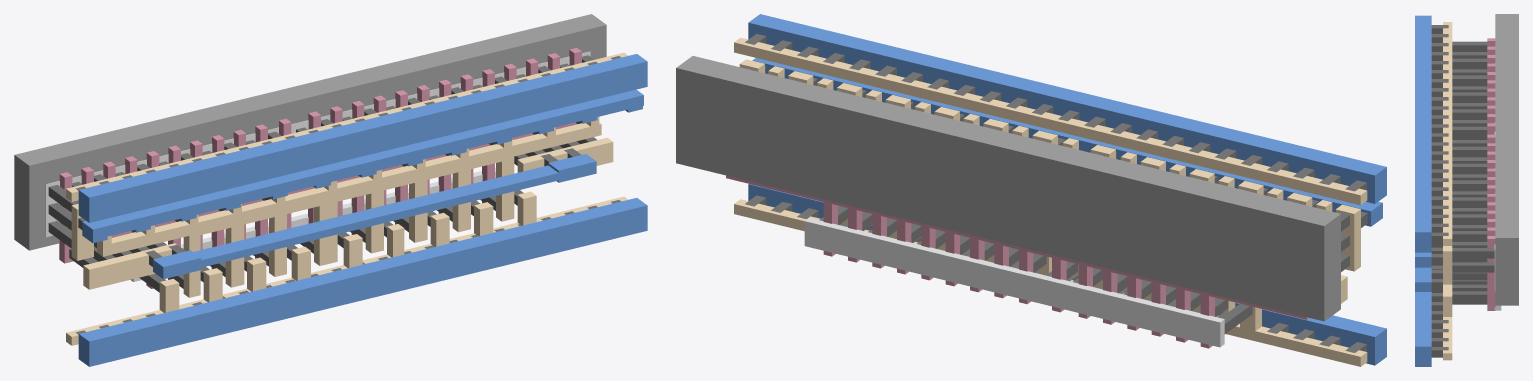
The model's file is sky130_fd_sc_hd__lpflow_clkinvkapwr_16.gds.gltf.
3 renders of one model, left to right at view 1: azimuth 30°, elevation 25°; view 2: azimuth 150°, elevation 25°; view 3: azimuth 270°, elevation 25°, orthographic. The views are drawn at different scales.
Parts seen in each view (by area): view 1: sky130_fd_sc_hd__lpflow_clkinvkapwr_16_met1, sky130_fd_sc_hd__lpflow_clkinvkapwr_16_li1, sky130_fd_sc_hd__lpflow_clkinvkapwr_16_nwell, sky130_fd_sc_hd__lpflow_clkinvkapwr_16_poly, sky130_fd_sc_hd__lpflow_clkinvkapwr_16_licon, sky130_fd_sc_hd__lpflow_clkinvkapwr_16_diff, sky130_fd_sc_hd__lpflow_clkinvkapwr_16_mcon; view 2: sky130_fd_sc_hd__lpflow_clkinvkapwr_16_nwell, sky130_fd_sc_hd__lpflow_clkinvkapwr_16_met1, sky130_fd_sc_hd__lpflow_clkinvkapwr_16_li1, sky130_fd_sc_hd__lpflow_clkinvkapwr_16_diff, sky130_fd_sc_hd__lpflow_clkinvkapwr_16_poly, sky130_fd_sc_hd__lpflow_clkinvkapwr_16_mcon, sky130_fd_sc_hd__lpflow_clkinvkapwr_16_licon; view 3: sky130_fd_sc_hd__lpflow_clkinvkapwr_16_licon, sky130_fd_sc_hd__lpflow_clkinvkapwr_16_nwell, sky130_fd_sc_hd__lpflow_clkinvkapwr_16_met1, sky130_fd_sc_hd__lpflow_clkinvkapwr_16_mcon, sky130_fd_sc_hd__lpflow_clkinvkapwr_16_li1, sky130_fd_sc_hd__lpflow_clkinvkapwr_16_poly, sky130_fd_sc_hd__lpflow_clkinvkapwr_16_diff.
Part boxes in pixels (bbox=[...]): sky130_fd_sc_hd__lpflow_clkinvkapwr_16_met1: bbox=[78, 54, 647, 366]; sky130_fd_sc_hd__lpflow_clkinvkapwr_16_li1: bbox=[66, 52, 628, 345]; sky130_fd_sc_hd__lpflow_clkinvkapwr_16_nwell: bbox=[14, 14, 606, 250]; sky130_fd_sc_hd__lpflow_clkinvkapwr_16_poly: bbox=[59, 48, 581, 288]; sky130_fd_sc_hd__lpflow_clkinvkapwr_16_licon: bbox=[48, 55, 596, 292]; sky130_fd_sc_hd__lpflow_clkinvkapwr_16_diff: bbox=[45, 51, 590, 281]; sky130_fd_sc_hd__lpflow_clkinvkapwr_16_mcon: bbox=[75, 56, 620, 334]; sky130_fd_sc_hd__lpflow_clkinvkapwr_16_nwell: bbox=[676, 56, 1340, 321]; sky130_fd_sc_hd__lpflow_clkinvkapwr_16_met1: bbox=[748, 14, 1386, 365]; sky130_fd_sc_hd__lpflow_clkinvkapwr_16_li1: bbox=[734, 37, 1367, 366]; sky130_fd_sc_hd__lpflow_clkinvkapwr_16_diff: bbox=[804, 218, 1224, 347]; sky130_fd_sc_hd__lpflow_clkinvkapwr_16_poly: bbox=[726, 175, 1308, 348]; sky130_fd_sc_hd__lpflow_clkinvkapwr_16_mcon: bbox=[745, 34, 1367, 352]; sky130_fd_sc_hd__lpflow_clkinvkapwr_16_licon: bbox=[744, 67, 1349, 334]; sky130_fd_sc_hd__lpflow_clkinvkapwr_16_licon: bbox=[1452, 41, 1494, 304]; sky130_fd_sc_hd__lpflow_clkinvkapwr_16_nwell: bbox=[1495, 14, 1518, 305]; sky130_fd_sc_hd__lpflow_clkinvkapwr_16_met1: bbox=[1415, 15, 1431, 366]; sky130_fd_sc_hd__lpflow_clkinvkapwr_16_mcon: bbox=[1431, 25, 1448, 357]; sky130_fd_sc_hd__lpflow_clkinvkapwr_16_li1: bbox=[1443, 22, 1452, 360]; sky130_fd_sc_hd__lpflow_clkinvkapwr_16_poly: bbox=[1487, 38, 1495, 310]; sky130_fd_sc_hd__lpflow_clkinvkapwr_16_diff: bbox=[1494, 132, 1501, 310].
Size of the model in its own units: 11.42 by 3.2 by 2.24.
